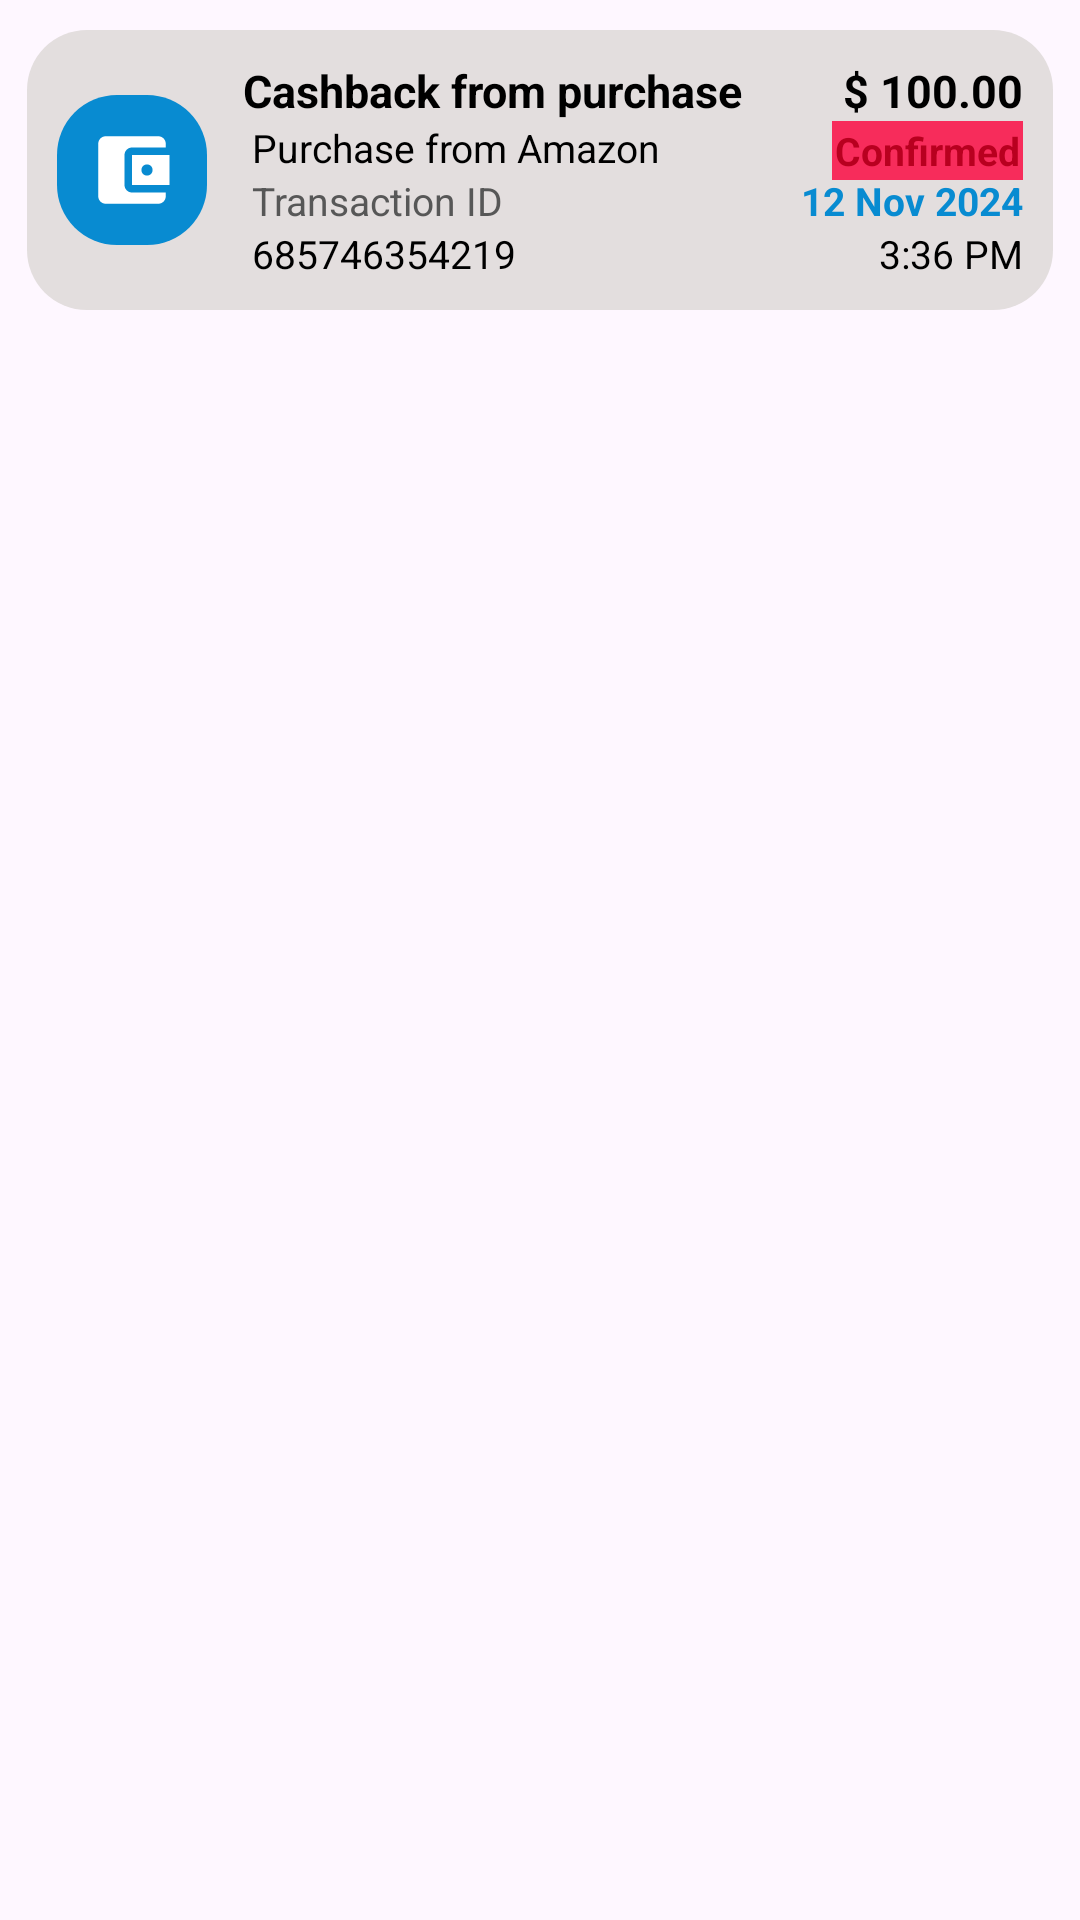

Icons on this 1080x1920 Android screen, each with the point to tap as [x,y]:
account balance wallet: [134,170]
